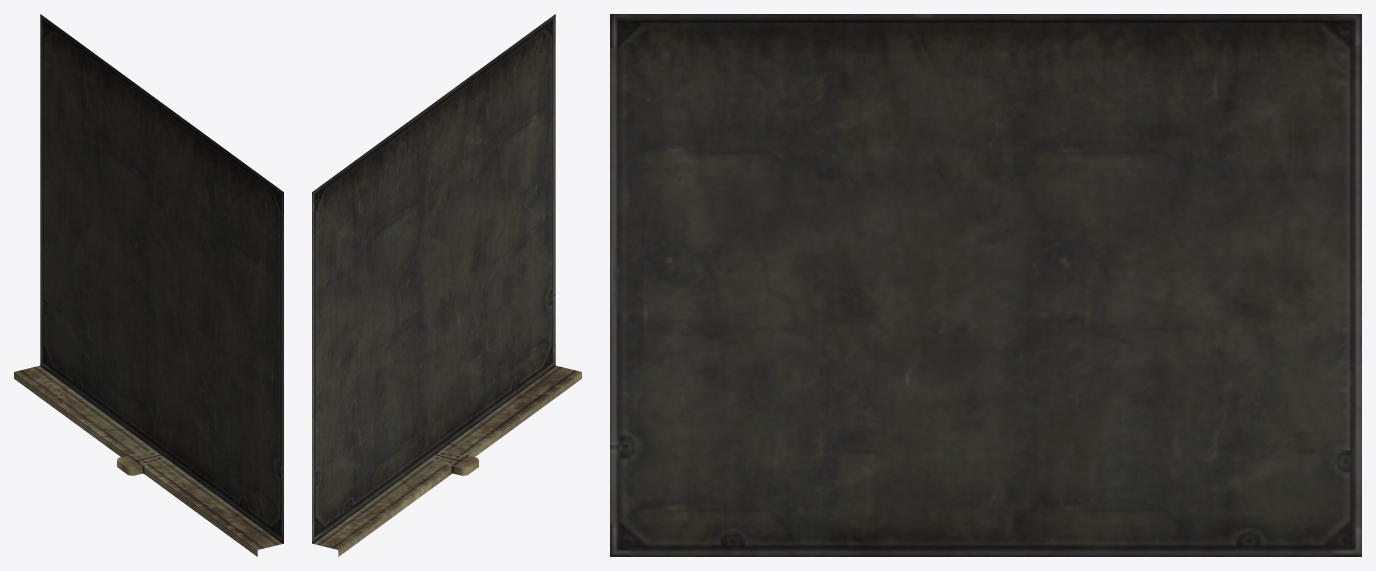
Rendered from pplant_ground_blank_notop.dae.
3 renders of one model, left to right at view 1: azimuth 30°, elevation 25°; view 2: azimuth 150°, elevation 25°; view 3: azimuth 270°, elevation 25°, orthographic. The views are drawn at different scales.
Visible parts, largest first — view 1: ground_blank_notop; view 2: ground_blank_notop; view 3: ground_blank_notop.
Boxes of the visible parts, box(x1,y1,x2,y2) form: ground_blank_notop: box(14, 14, 283, 556); ground_blank_notop: box(312, 14, 581, 556); ground_blank_notop: box(610, 14, 1361, 556).
Size of the model in its own units: 0.375 by 3.25 by 4.
